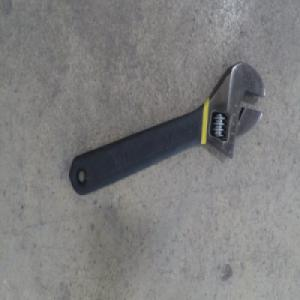AdjustableWrench: (68, 61, 264, 199)
